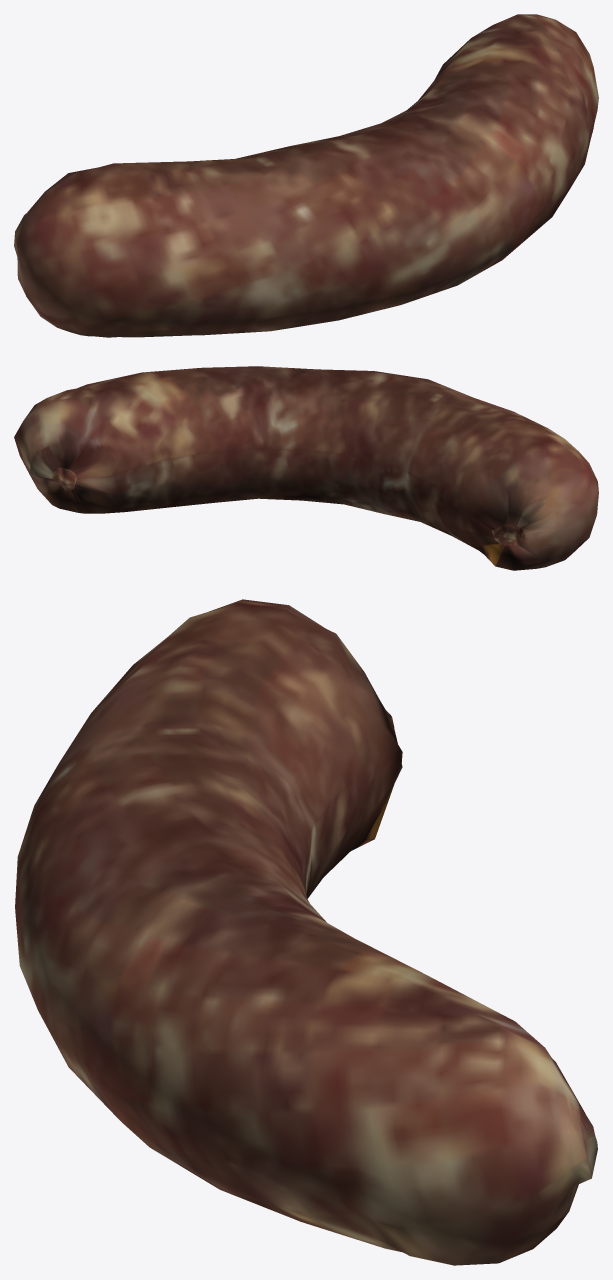
The model's file is Sausage.obj.
The picture shows the model from 3 angles, top to bottom: view 1: azimuth 30°, elevation 25°; view 2: azimuth 150°, elevation 25°; view 3: azimuth 270°, elevation 25°; orthographic projection. The views are drawn at different scales.
Parts seen in each view (by area): view 1: Sausage_01_LOD5:Group27101; view 2: Sausage_01_LOD5:Group27101; view 3: Sausage_01_LOD5:Group27101.
Part boxes in pixels (left/top/right/bottom): Sausage_01_LOD5:Group27101: left=14, top=14, right=598, bottom=337; Sausage_01_LOD5:Group27101: left=14, top=366, right=598, bottom=570; Sausage_01_LOD5:Group27101: left=15, top=599, right=597, bottom=1265.
Bounding box in the file's own units: 1.64 × 0.3877 × 0.8149.
